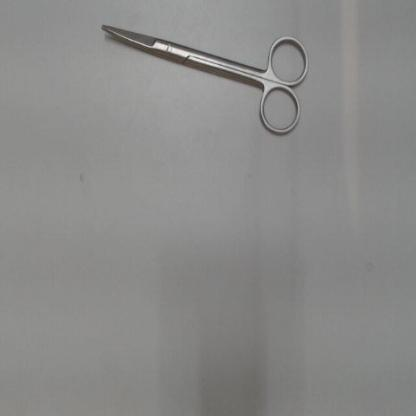Curved Mayo Scissors: (98, 19, 312, 146)
